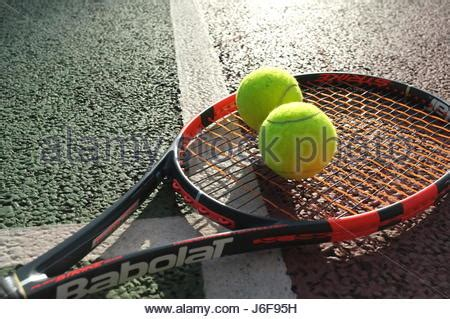tennis_ball: (258, 102, 336, 180), (236, 67, 303, 132)
